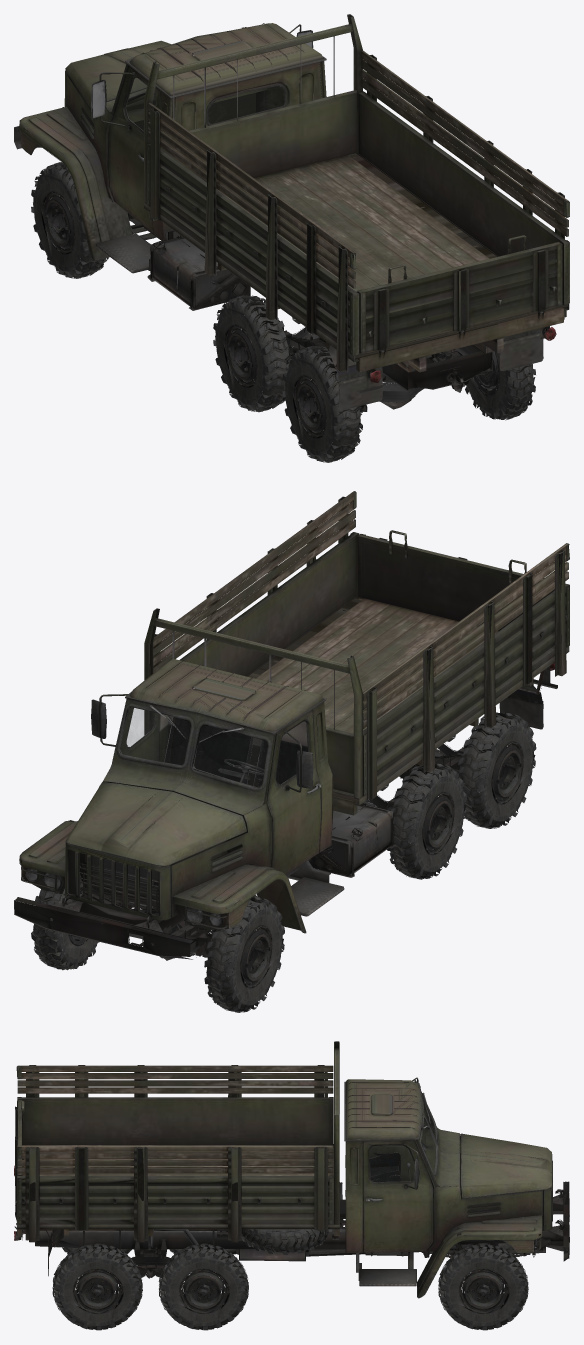
The model's file is type_eq240.glb.
3 renders of one model, top to bottom at view 1: azimuth 30°, elevation 25°; view 2: azimuth 150°, elevation 25°; view 3: azimuth 270°, elevation 25°, orthographic. The views are drawn at different scales.
Visible parts, largest first — view 1: Object_3, Object_4, Object_5, Object_12, Object_8, Object_10, Object_9; view 2: Object_3, Object_4, Object_5, Object_12, Object_8, Object_10, Object_2, Object_11; view 3: Object_3, Object_4, Object_5, Object_11, Object_13, Object_9, Object_7, Object_2.
Part boxes in pixels (x1,y1,x2,y2): Object_3: (144, 14, 569, 410); Object_4: (19, 23, 326, 273); Object_5: (14, 107, 492, 411); Object_12: (213, 295, 292, 412); Object_8: (282, 345, 362, 462); Object_10: (31, 162, 108, 278); Object_9: (457, 350, 535, 420); Object_3: (144, 491, 569, 815); Object_4: (19, 658, 344, 933); Object_5: (14, 735, 470, 960); Object_12: (387, 763, 467, 879); Object_8: (458, 712, 536, 828); Object_10: (204, 896, 284, 1012); Object_2: (26, 708, 308, 925); Object_11: (31, 883, 111, 970); Object_3: (14, 1041, 339, 1276); Object_4: (344, 1077, 552, 1298); Object_5: (14, 1181, 569, 1280); Object_11: (438, 1243, 528, 1330); Object_13: (158, 1243, 248, 1330); Object_9: (52, 1243, 142, 1330); Object_7: (241, 1229, 328, 1254); Object_2: (370, 1098, 536, 1244).
Bounding box in the file's own units: 2.49 × 2.98 × 6.91.
6 materials, 6 textured.
